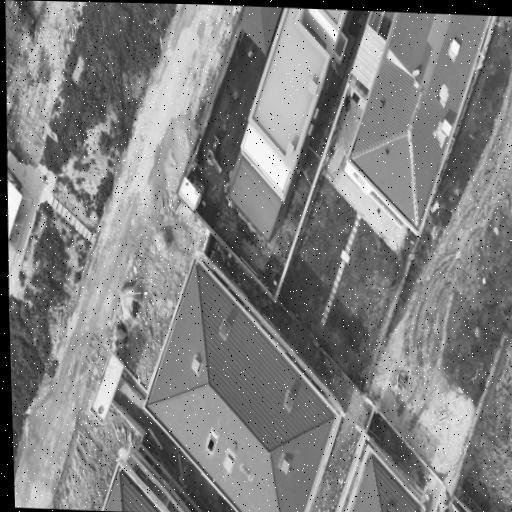car: (8, 0, 34, 35)
